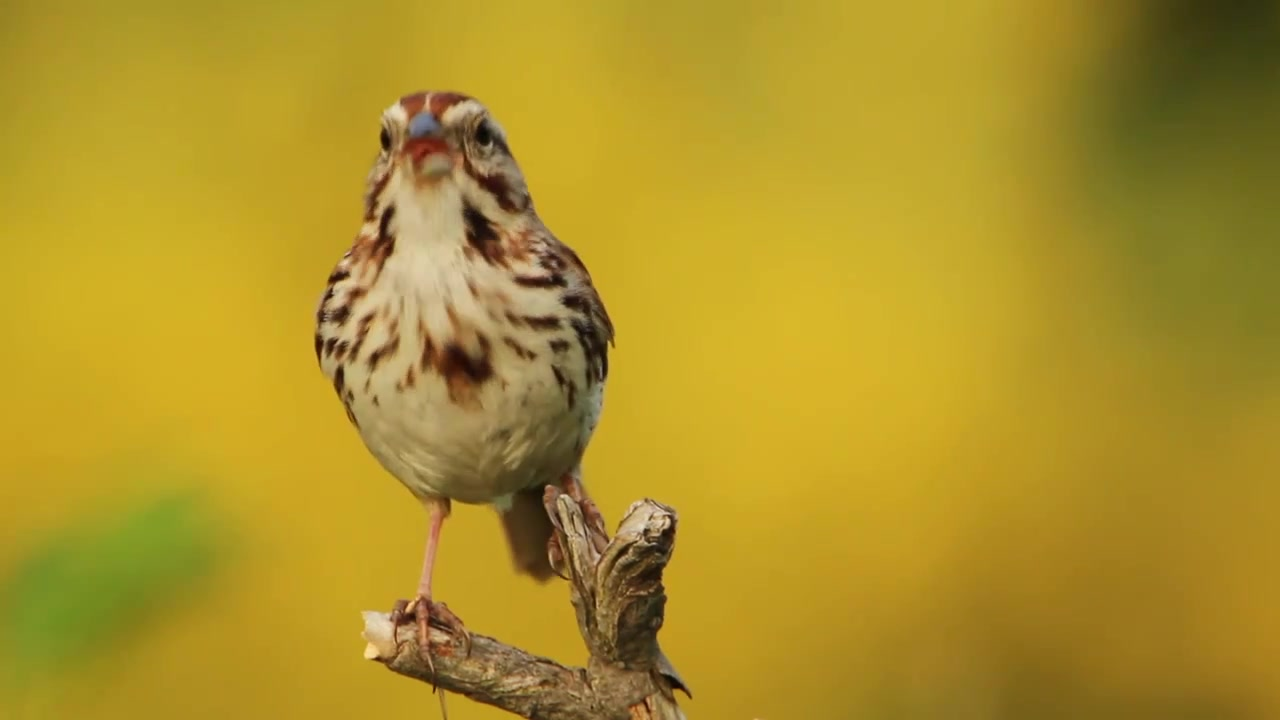bird: (315, 91, 617, 692)
